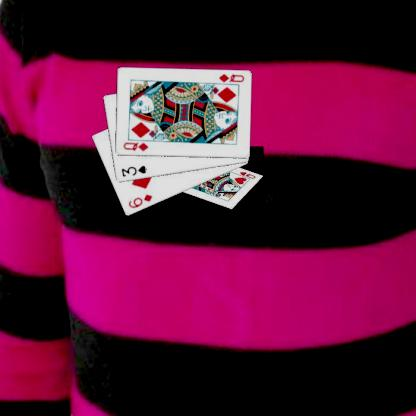3S: (119, 163, 147, 178)
6D: (126, 192, 154, 210)
QD: (216, 71, 245, 84), (121, 140, 149, 152)
